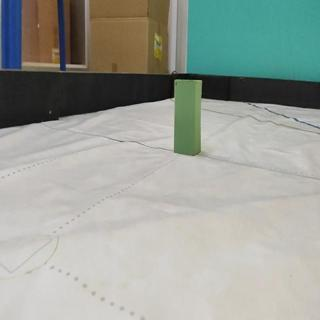greenbox: (173, 79, 201, 156)
